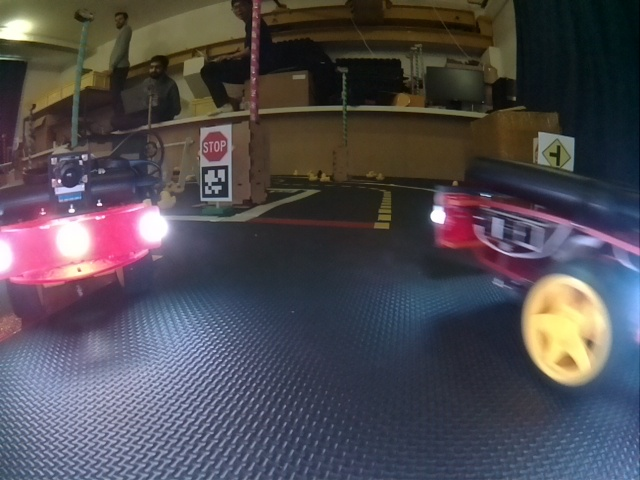Duckie: (159, 190, 177, 208), (321, 174, 330, 183)
Duckiebot: (432, 157, 595, 372), (4, 151, 165, 317)
Intersection sign: (539, 132, 574, 170)
QR code: (201, 165, 231, 199)
Stop sign: (201, 128, 230, 161)
